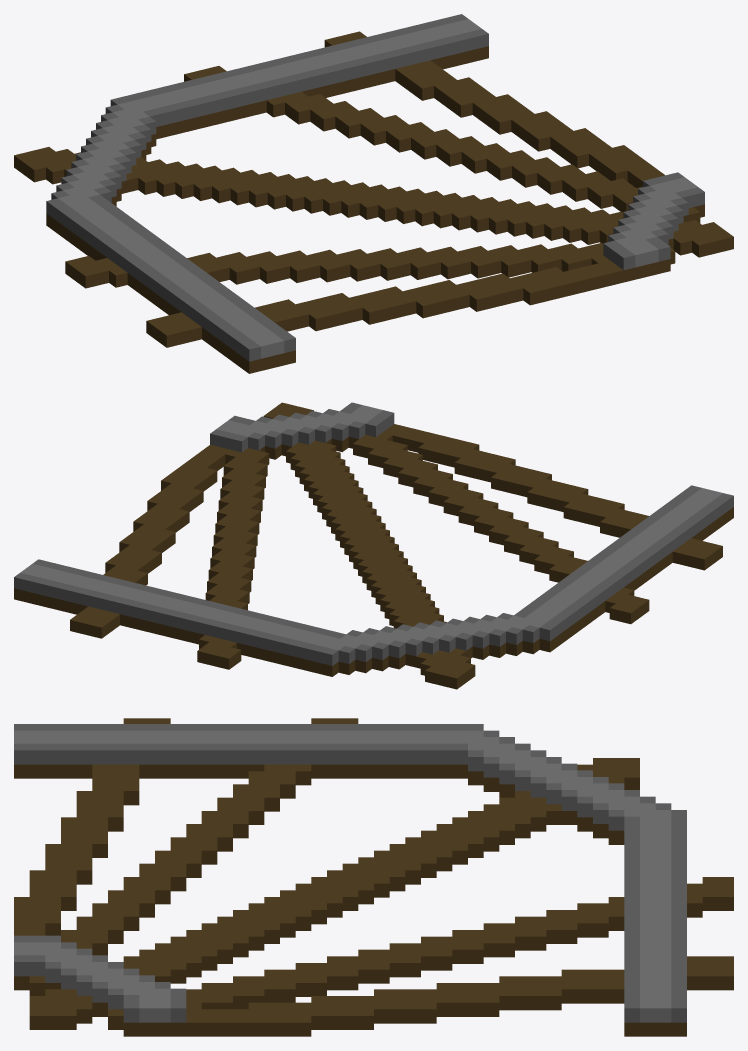
The model's file is rails3.obj.
3 renders of one model, top to bottom at view 1: azimuth 30°, elevation 25°; view 2: azimuth 150°, elevation 25°; view 3: azimuth 270°, elevation 25°, orthographic. The views are drawn at different scales.
Bounding box in the file's own units: 4.6 × 0.2 × 4.6.
1 material, 1 textured.
